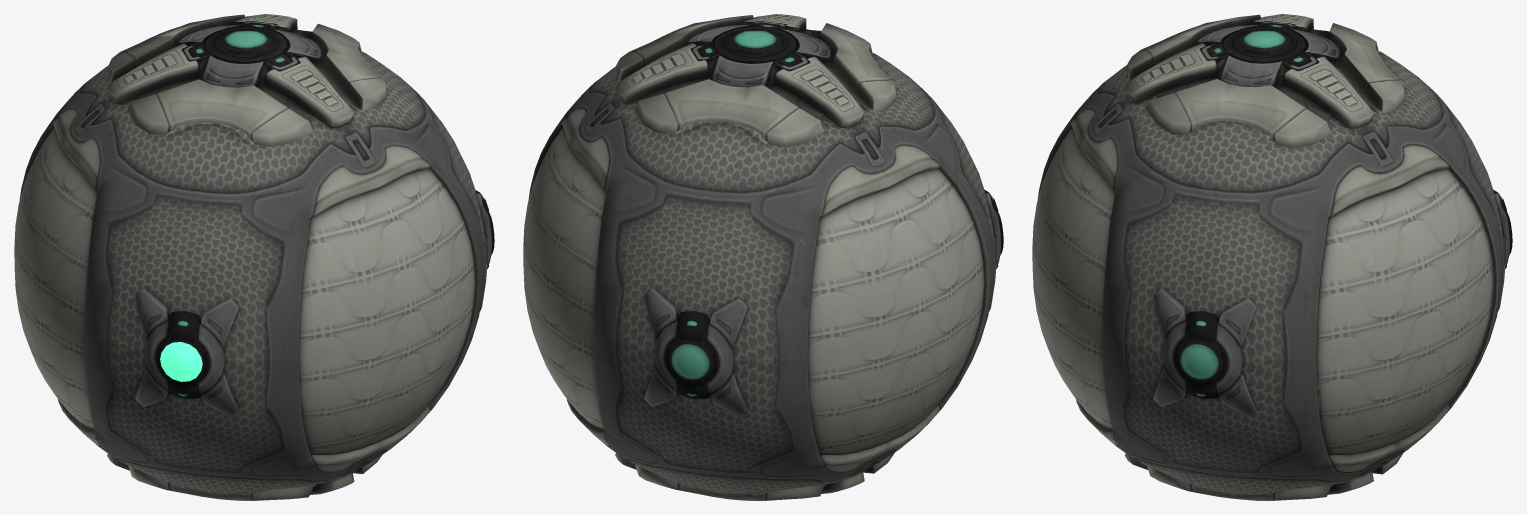
File: rocket ball.fbx
The picture shows the model from 3 angles, left to right: view 1: azimuth 30°, elevation 25°; view 2: azimuth 150°, elevation 25°; view 3: azimuth 270°, elevation 25°; orthographic projection.
Visible parts, largest first — view 1: bola; view 2: bola; view 3: bola.
Part boxes in pixels (x1,y1,x2,y2): bola: [14, 14, 494, 500]; bola: [523, 14, 1003, 500]; bola: [1032, 14, 1512, 500].
Size of the model in its own units: 192 by 196 by 191.
2 materials, 1 textured.
